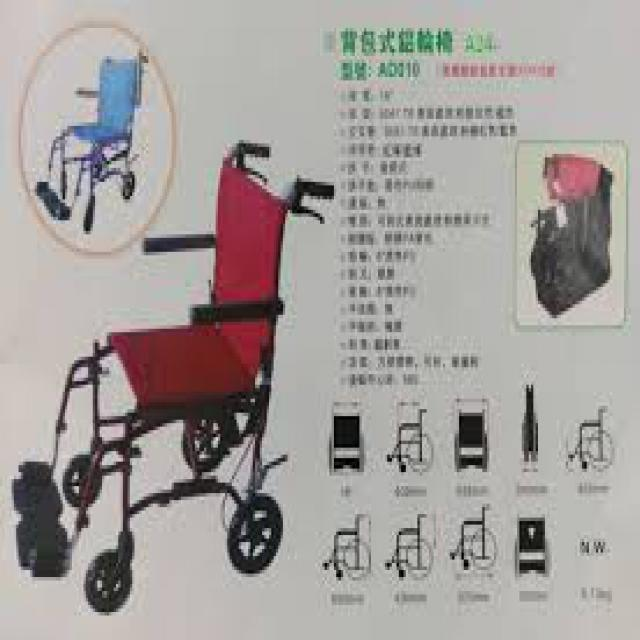wheelchair: (2, 130, 332, 622), (21, 49, 167, 231)
